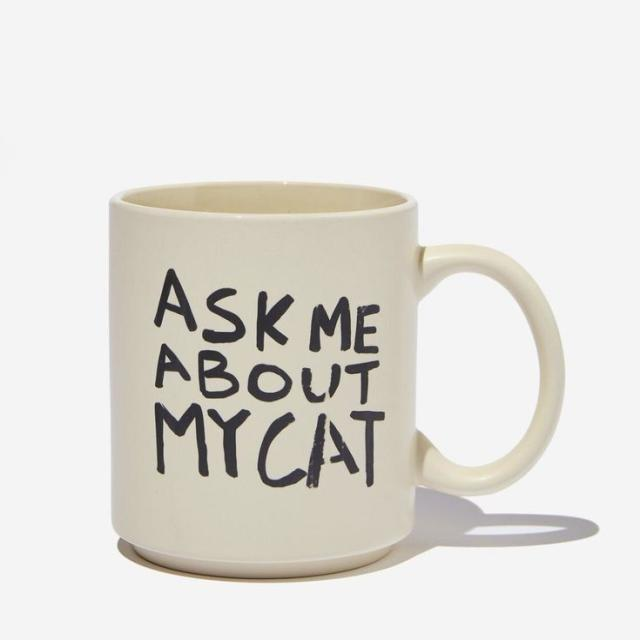glass cup: (110, 179, 567, 581)
